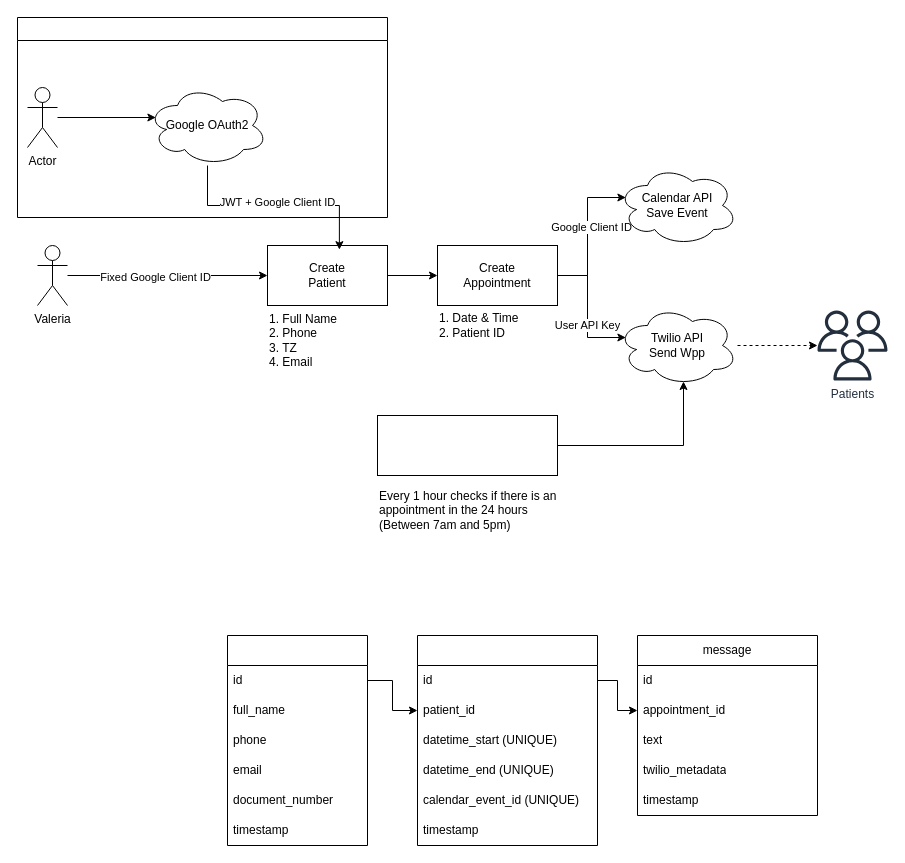
This 905x863 diagram has some shape labels left out. Here are the shapes that lost their labels. From the top down, the box of each, then its label:
(16, 16, 388, 218): After scaling to multiple users
(376, 414, 558, 476): Reminder (Cron Job)
(226, 634, 368, 846): patient
(416, 634, 598, 846): appointment
